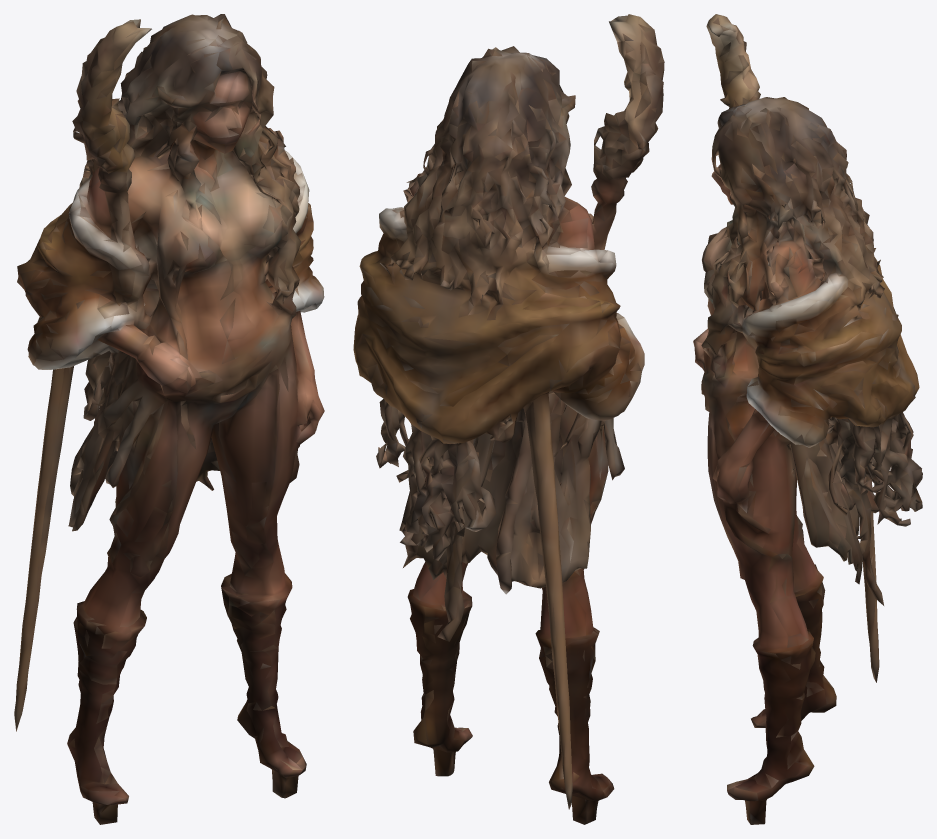
Rendered from Ember (2)_final.glb.
The picture shows the model from 3 angles, left to right: view 1: azimuth 30°, elevation 25°; view 2: azimuth 150°, elevation 25°; view 3: azimuth 270°, elevation 25°; orthographic projection. The views are drawn at different scales.
Parts seen in each view (by area): view 1: Mesh1.0; view 2: Mesh1.0; view 3: Mesh1.0.
Boxes of the visible parts, bbox=[...] form: Mesh1.0: bbox=[14, 14, 324, 824]; Mesh1.0: bbox=[353, 14, 664, 824]; Mesh1.0: bbox=[693, 14, 922, 824].
Bounding box in the file's own units: 0.7233 × 2 × 0.5706.
1 material, 1 textured.
